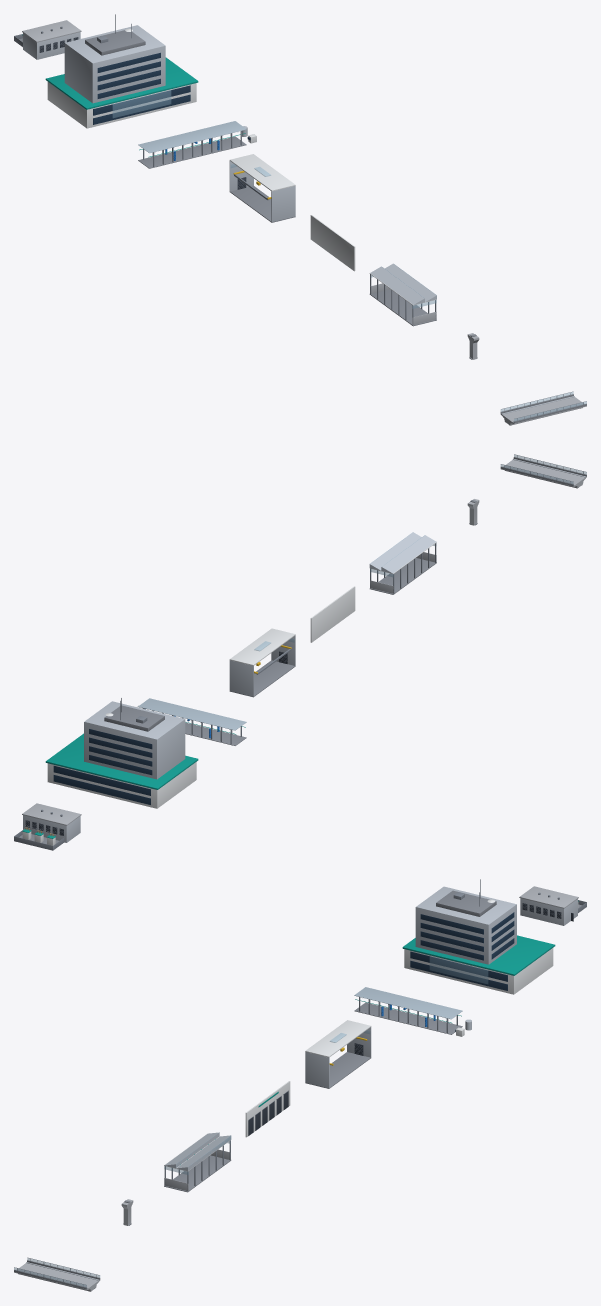
Rendered from structures.glb.
3 renders of one model, top to bottom at view 1: azimuth 30°, elevation 25°; view 2: azimuth 150°, elevation 25°; view 3: azimuth 330°, elevation 25°, orthographic.
Visible parts, largest first — view 1: Control_Centre, Workshop_Module, Wash_Frame, Shed_Module, Substation, Viaduct_Span, Shed_End; view 2: Control_Centre, Workshop_Module, Shed_Module, Substation, Wash_Frame, Viaduct_Span, Shed_End; view 3: Control_Centre, Workshop_Module, Wash_Frame, Shed_Module, Substation, Viaduct_Span, Shed_End.
Part boxes in pixels (box(x1,y1,x2,y2)): Control_Centre: box(45, 14, 198, 128); Workshop_Module: box(229, 154, 295, 222); Wash_Frame: box(138, 121, 256, 168); Shed_Module: box(369, 263, 436, 326); Substation: box(14, 20, 81, 59); Viaduct_Span: box(500, 391, 586, 425); Shed_End: box(310, 215, 355, 271); Control_Centre: box(45, 698, 198, 808); Workshop_Module: box(229, 628, 295, 697); Shed_Module: box(369, 532, 436, 594); Substation: box(14, 803, 81, 850); Wash_Frame: box(137, 698, 246, 745); Viaduct_Span: box(500, 454, 586, 488); Shed_End: box(310, 586, 355, 642); Control_Centre: box(402, 879, 555, 994); Workshop_Module: box(305, 1020, 371, 1088); Wash_Frame: box(354, 987, 471, 1036); Shed_Module: box(164, 1132, 231, 1192); Substation: box(519, 886, 586, 925); Viaduct_Span: box(14, 1257, 100, 1291); Shed_End: box(245, 1081, 290, 1137).
Size of the model in its own units: 47.25 by 35.15 by 368.
